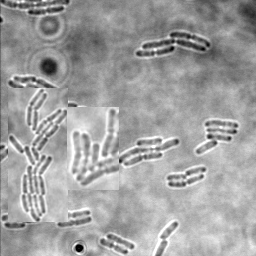Dividing: (167, 175, 204, 189), (99, 238, 128, 255), (56, 217, 92, 228), (27, 7, 64, 17), (68, 209, 90, 222)
Microcolony: (8, 88, 68, 222), (67, 107, 119, 190), (135, 32, 211, 57), (119, 137, 180, 168), (195, 120, 238, 155)
Rod: (106, 233, 135, 251), (157, 222, 178, 240), (184, 167, 206, 177), (166, 174, 187, 183)
